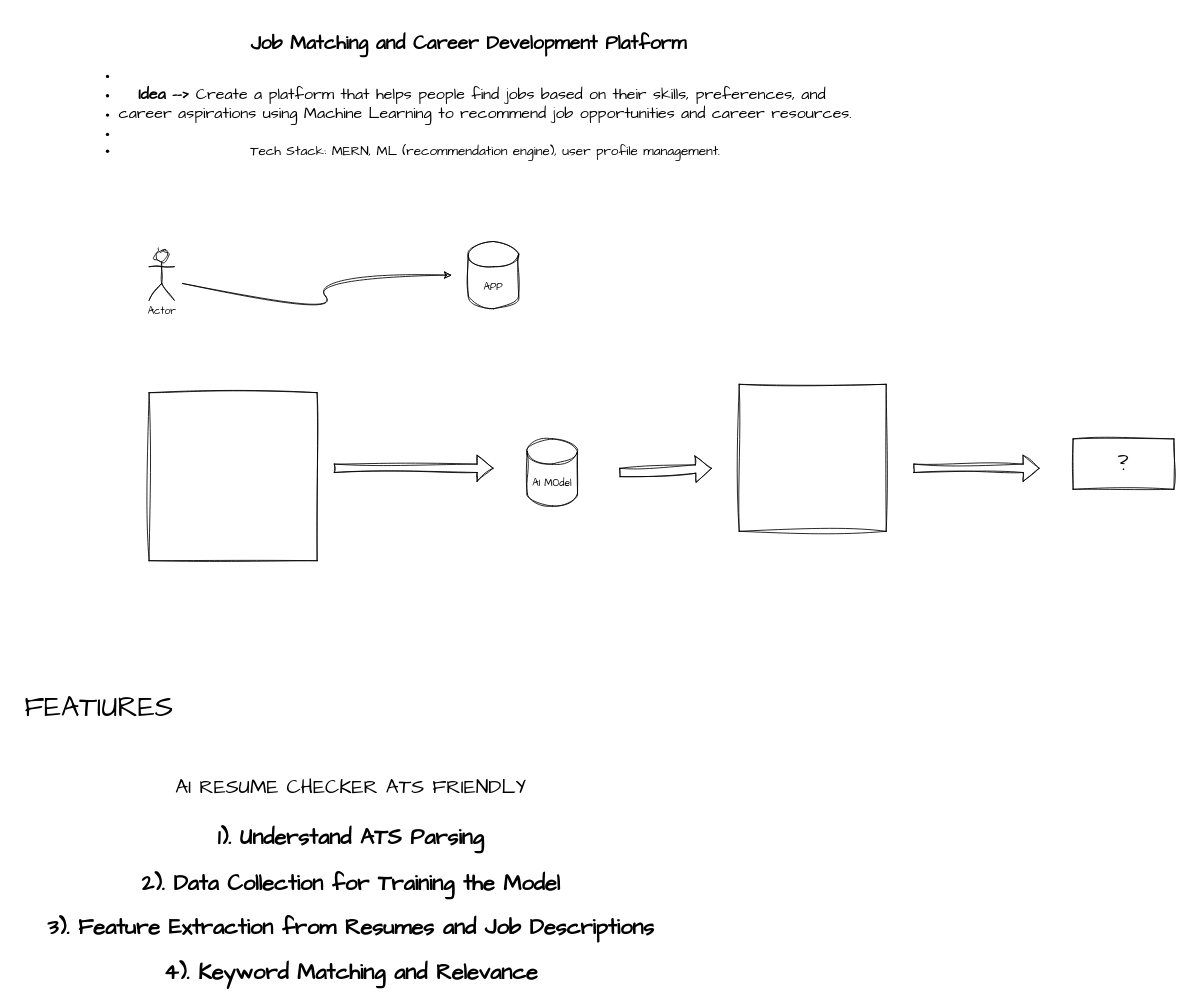
Some shapes in this 1189 by 1003 pixel diagram are drawn without their labels. Each missing label, with the centre of its shape:
"MODEL I/P Gives the trending suggestions like--> cyber security, GenAI etc." belongs at point 812,457.
"USER I/P What is the most demanding and trending skills nowadays in terms of IT" belongs at point 232,476.
